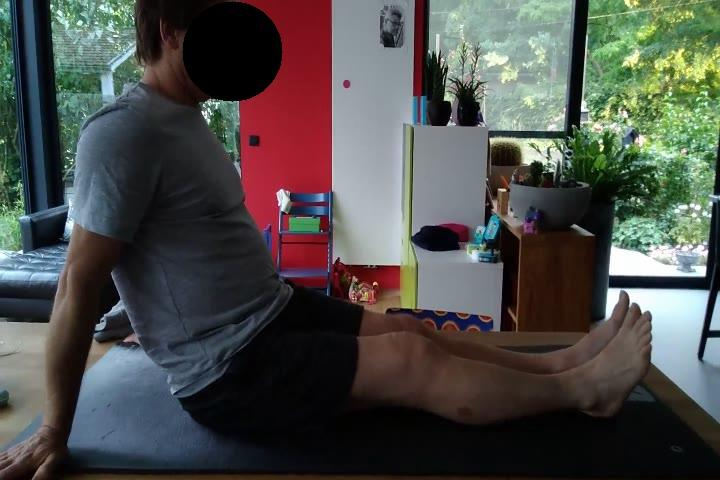lower_body: (177, 291, 657, 436)
